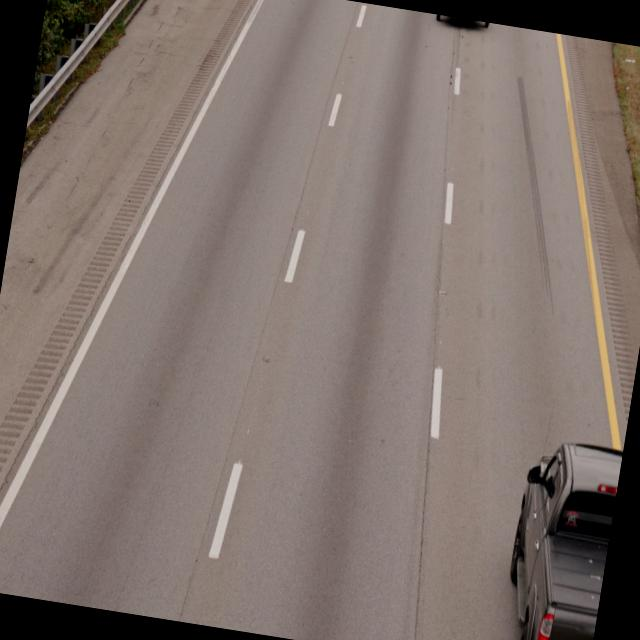Vehicle: (488, 434, 623, 640)
